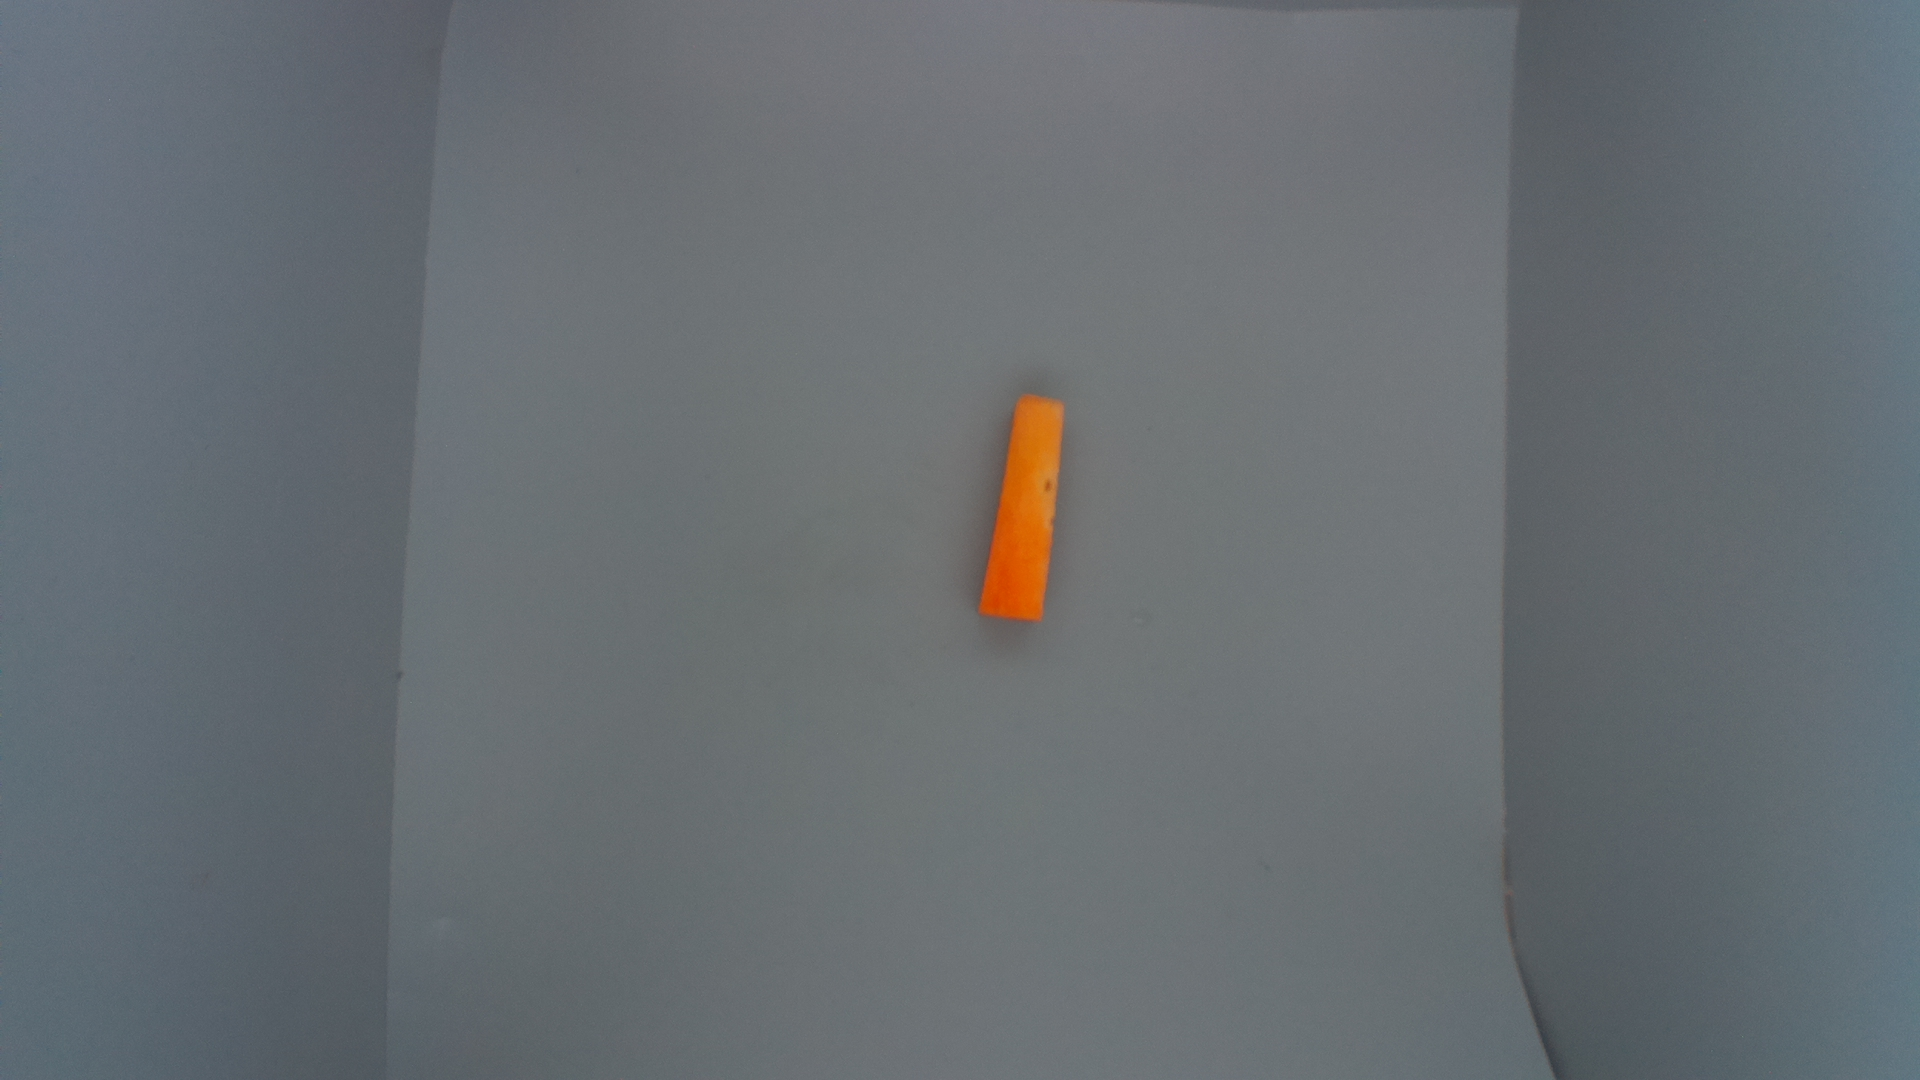carrot: (975, 393, 1065, 628)
